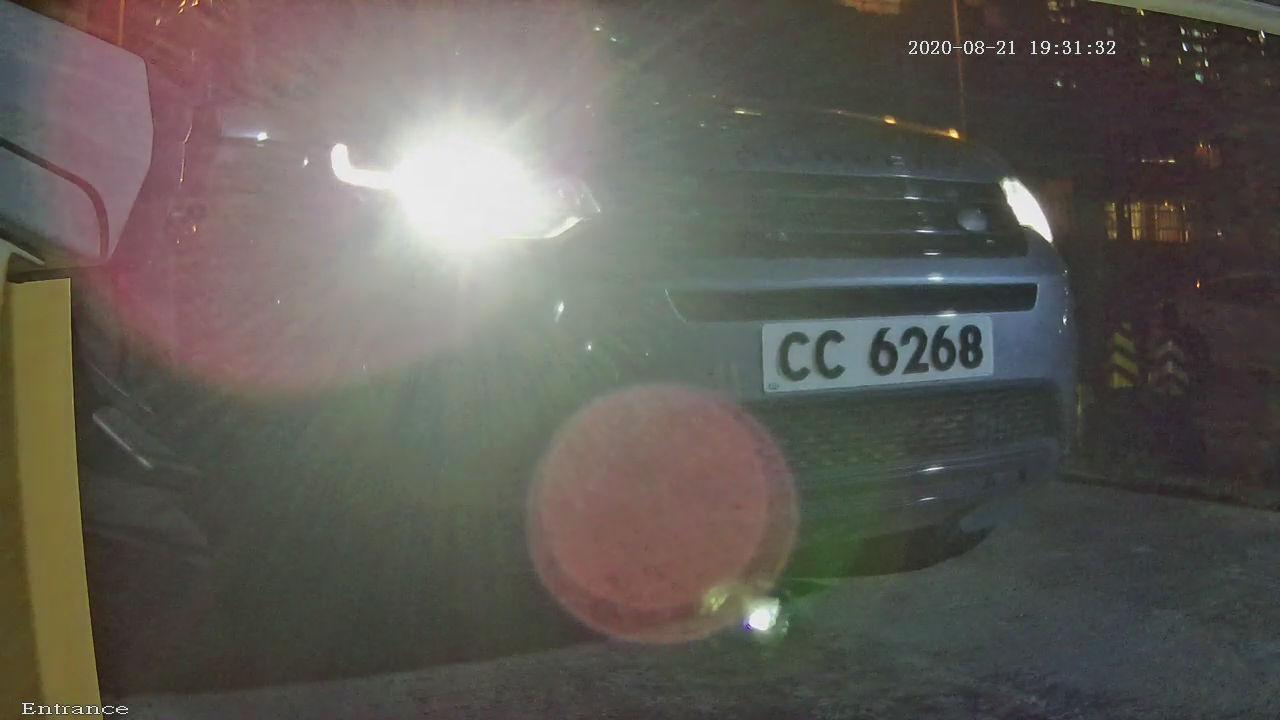Car: (35, 7, 1201, 598)
License Plate: (738, 296, 1023, 409)
